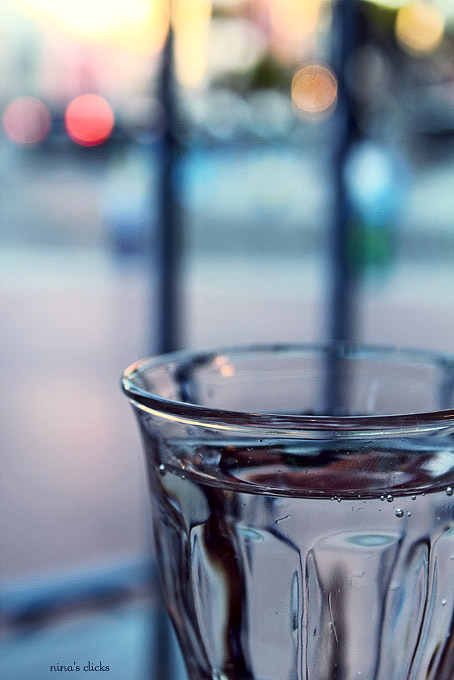glass of water: (127, 330, 452, 680)
